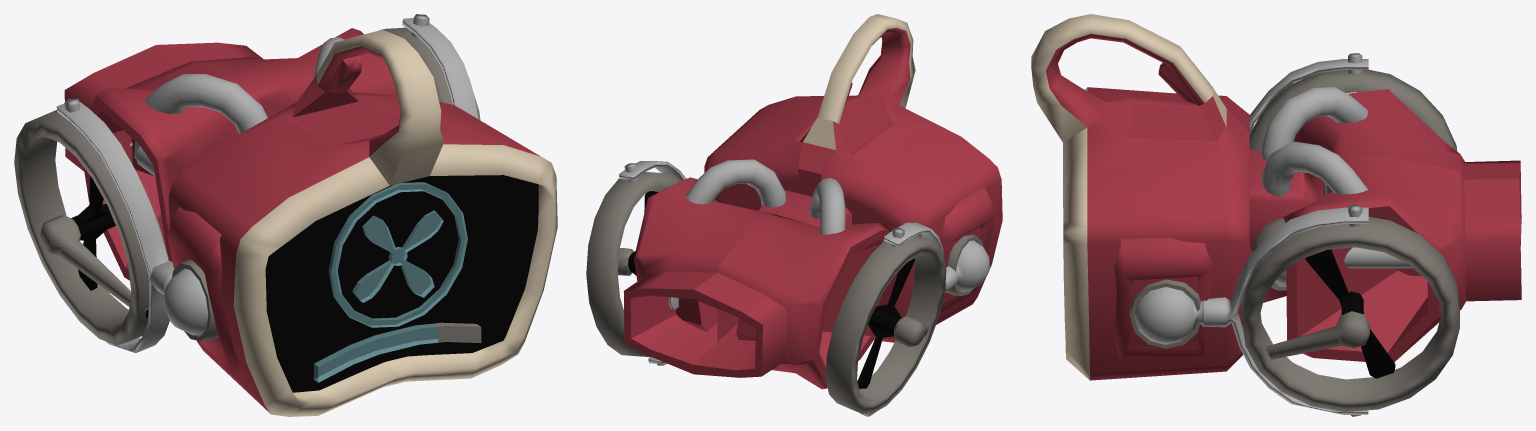
File: Vacuum.fbx
3 renders of one model, left to right at view 1: azimuth 30°, elevation 25°; view 2: azimuth 150°, elevation 25°; view 3: azimuth 270°, elevation 25°, orthographic. The views are drawn at different scales.
Visible parts, largest first — view 1: Vacuum1; view 2: Vacuum1; view 3: Vacuum1.
Part boxes in pixels (x1=…): Vacuum1: x1=14, y1=14, x2=557, y2=416; Vacuum1: x1=586, y1=14, x2=1002, y2=416; Vacuum1: x1=1031, y1=14, x2=1521, y2=416.
Bounding box in the file's own units: 0.7947 × 0.7024 × 0.9243.
6 materials, 1 textured.
